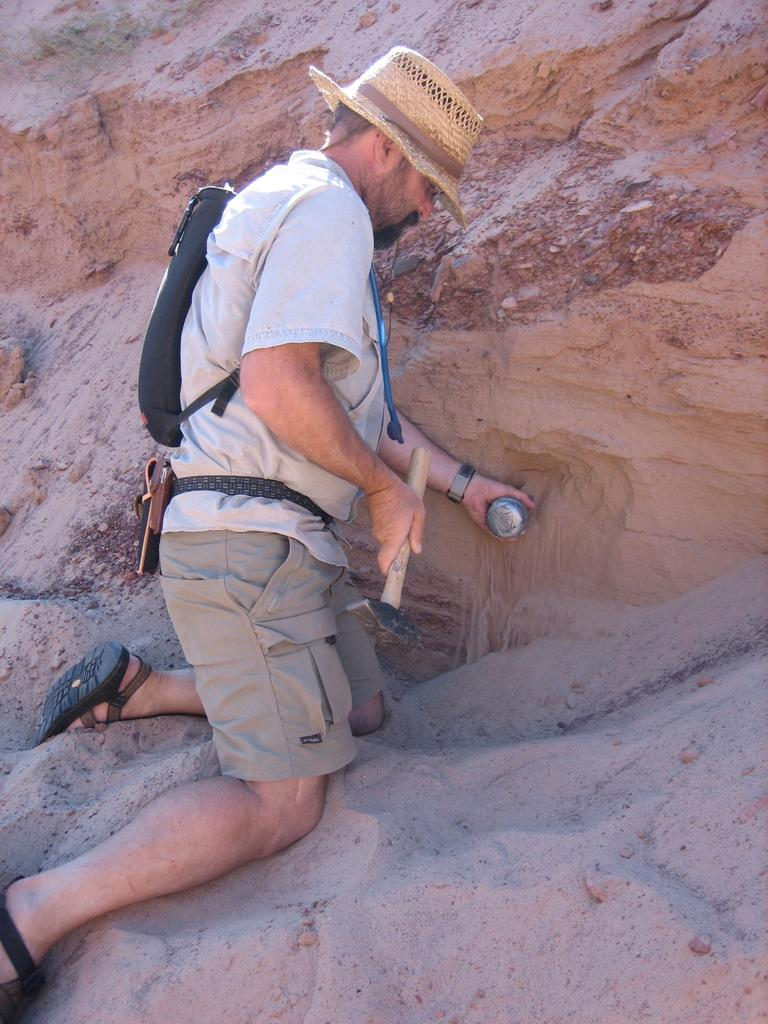Hat: (306, 42, 484, 222)
